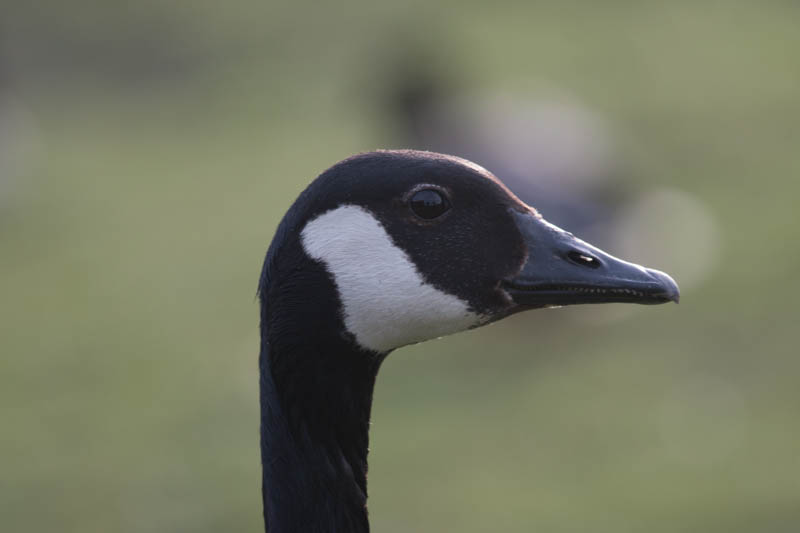goose-head: (260, 150, 681, 356)
